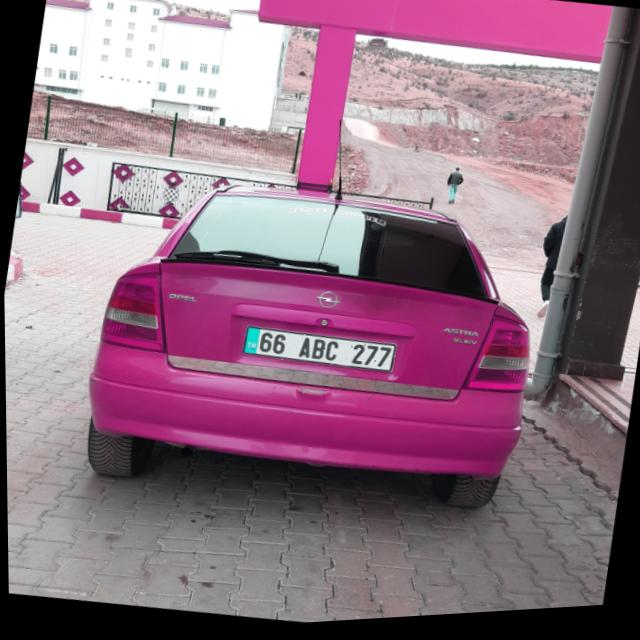license_plate: (241, 322, 397, 384)
